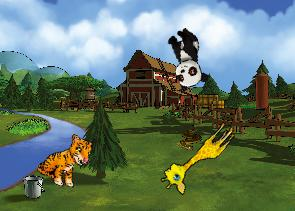giraffe: (156, 112, 239, 199)
panda: (162, 25, 210, 91)
tiger: (34, 126, 96, 193)
